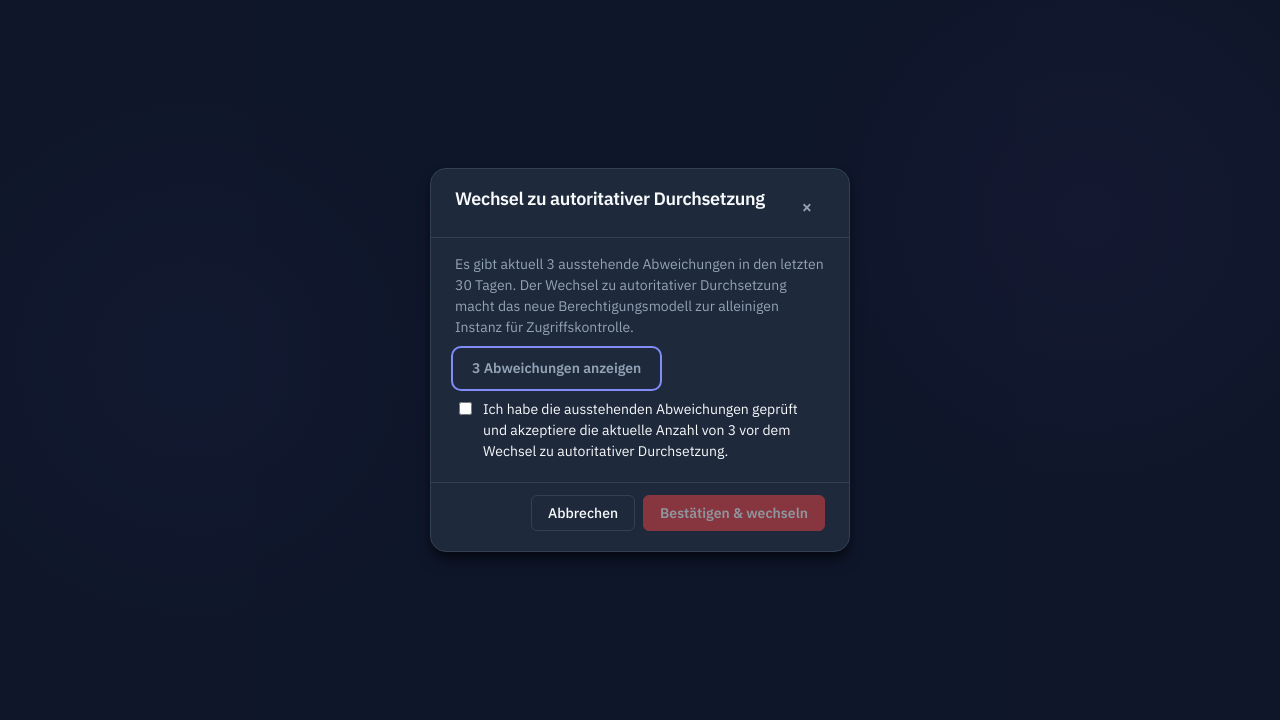
EnforcementFlipDialog i18n (Task 13) › shows the translated stale-count message per active language on a 409 MISMATCH_COUNT_STALE
Click the checkbox with test id "flip-acknowledge" at x=466, y=408, box [459,402,472,415]
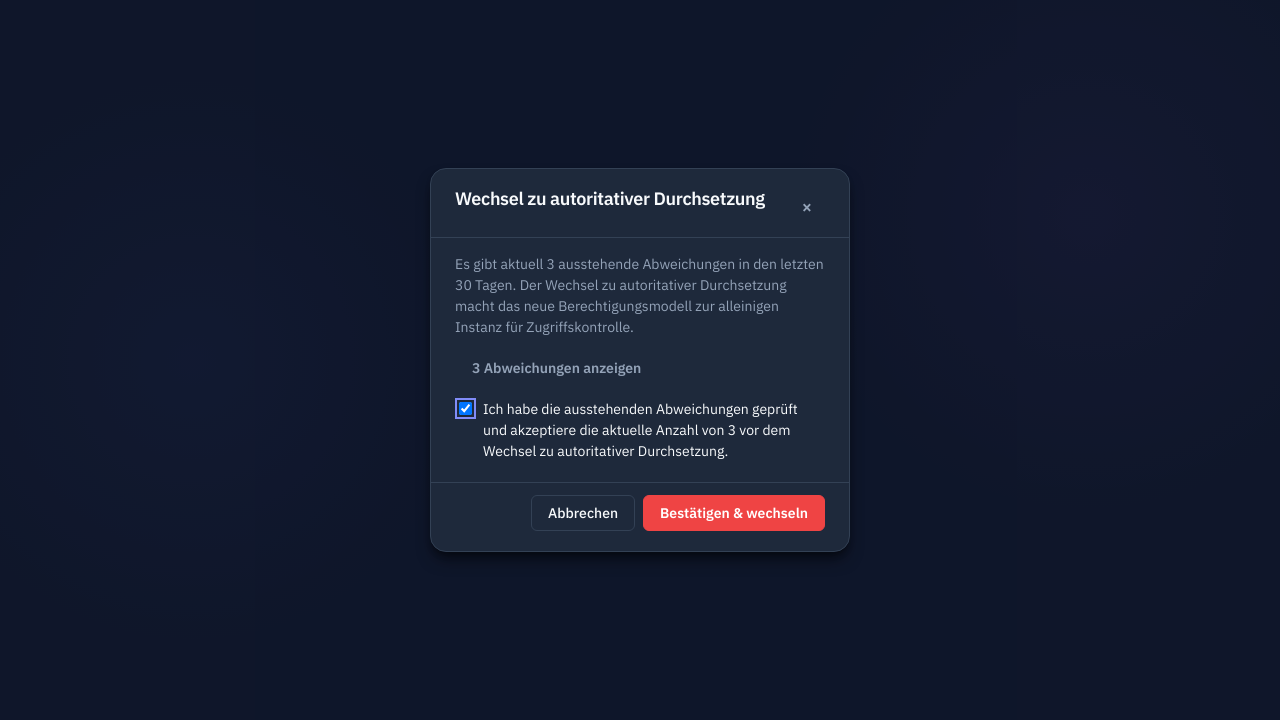
Click the button with test id "workflow-confirm-submit" at x=734, y=513, box [643,495,825,531]
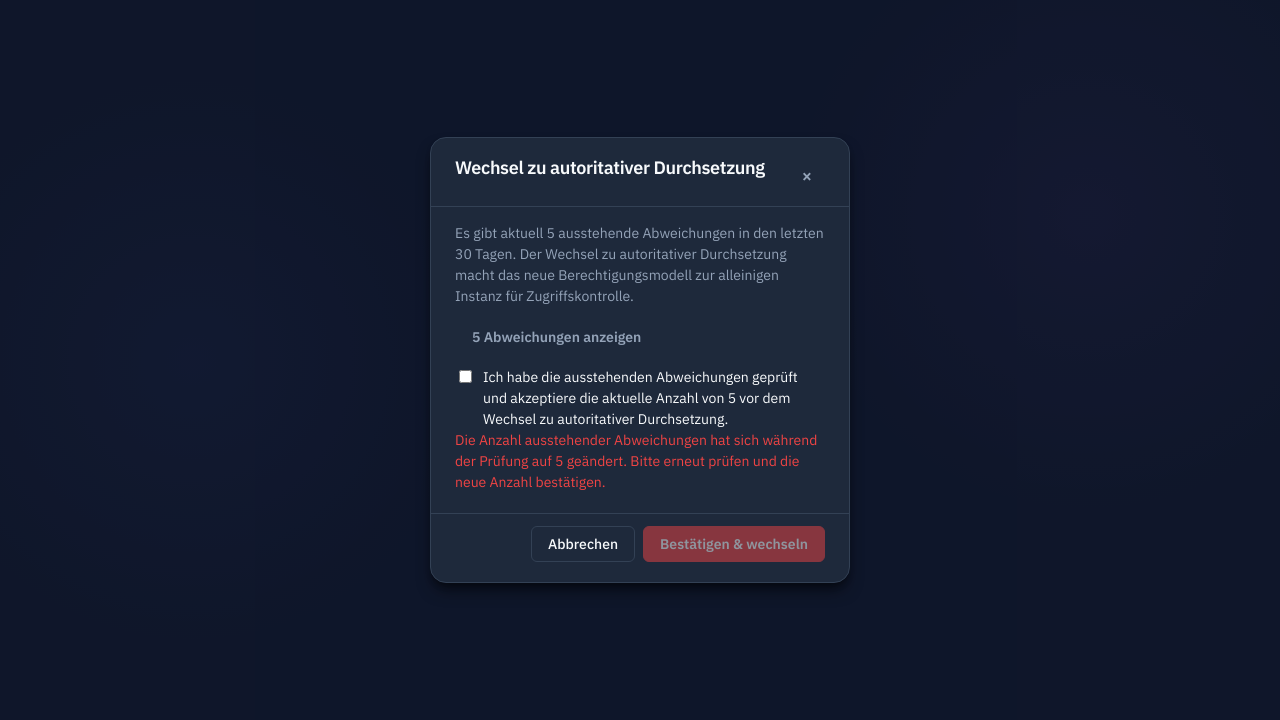
Result: the text "Die Anzahl ausstehender Abweichungen hat sich während der Prüfung auf 5 geändert. Bitte erneut prüfen und die neue Anzah" is shown at [455,431,817,491]
